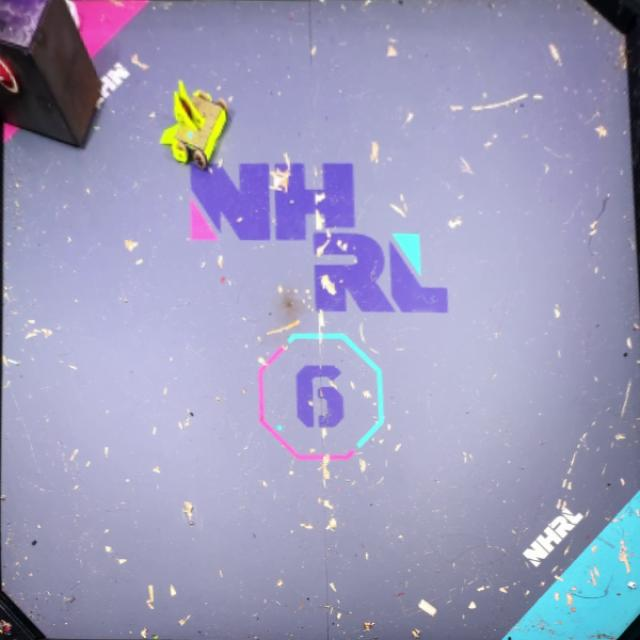housebot: (0, 0, 102, 149)
robot: (160, 79, 230, 169)
